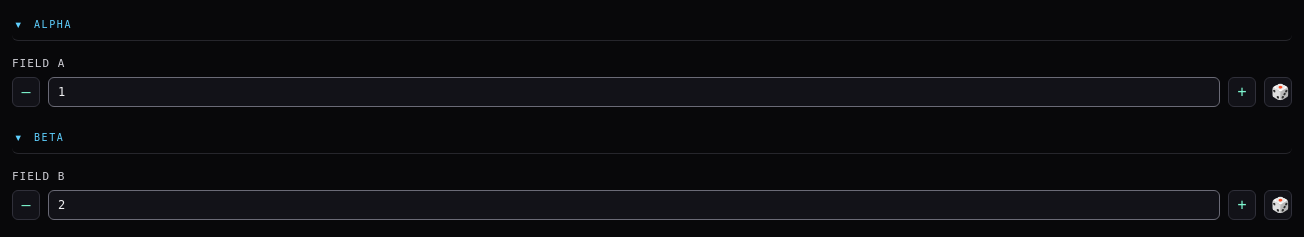
Test case: SchemaForm › groups fields into collapsible subpanels by section
Expected: the text "Field A" is shown, [12,57,65,70]
Expected: the text "Field B" is shown, [12,170,65,183]
Note: collapsing Alpha hides ITS control but leaves Beta untouched (discoverable, not gone)
Click the button "▾ Alpha". click: (53, 24)
box: [12,12,1292,41]
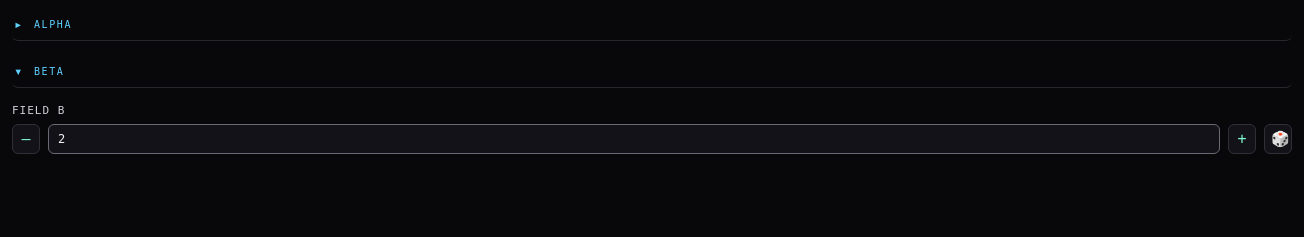
Expected: the text "Field B" is shown, [12,104,65,117]
Result: the text "Field A" is gone
